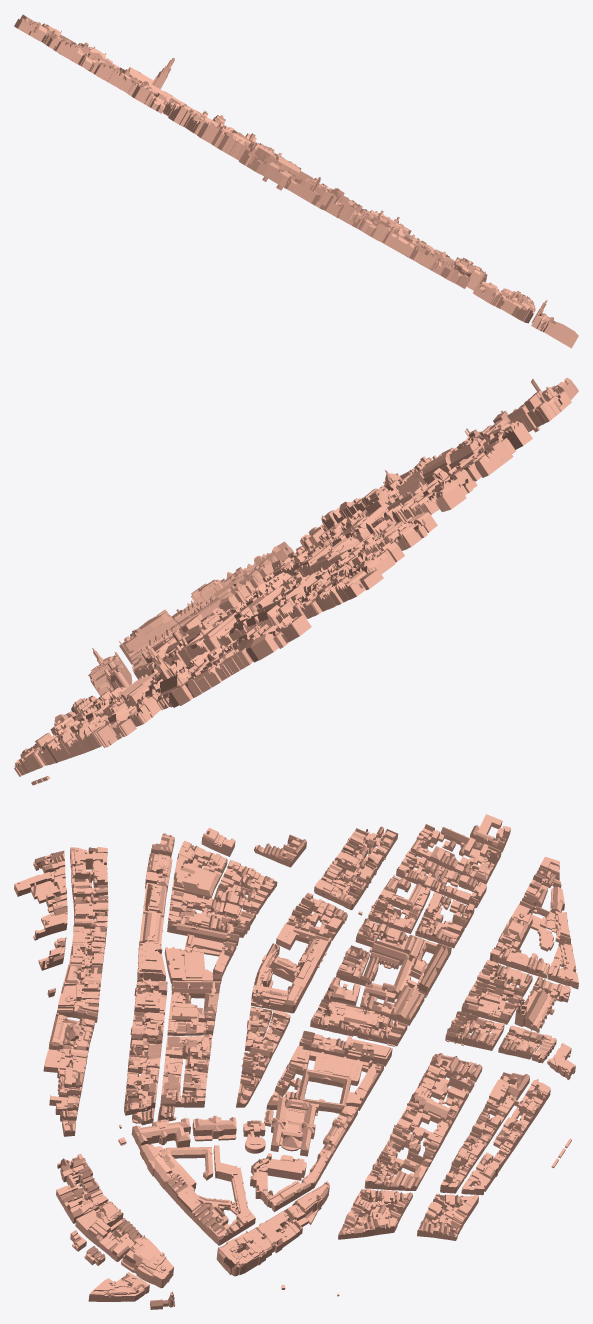
3 renders of one model, top to bottom at view 1: azimuth 30°, elevation 25°; view 2: azimuth 150°, elevation 25°; view 3: azimuth 270°, elevation 25°, orthographic. The views are drawn at different scales.
Size of the model in its own units: 1.79e+07 by 1.28e+07 by 2.14e+07.
